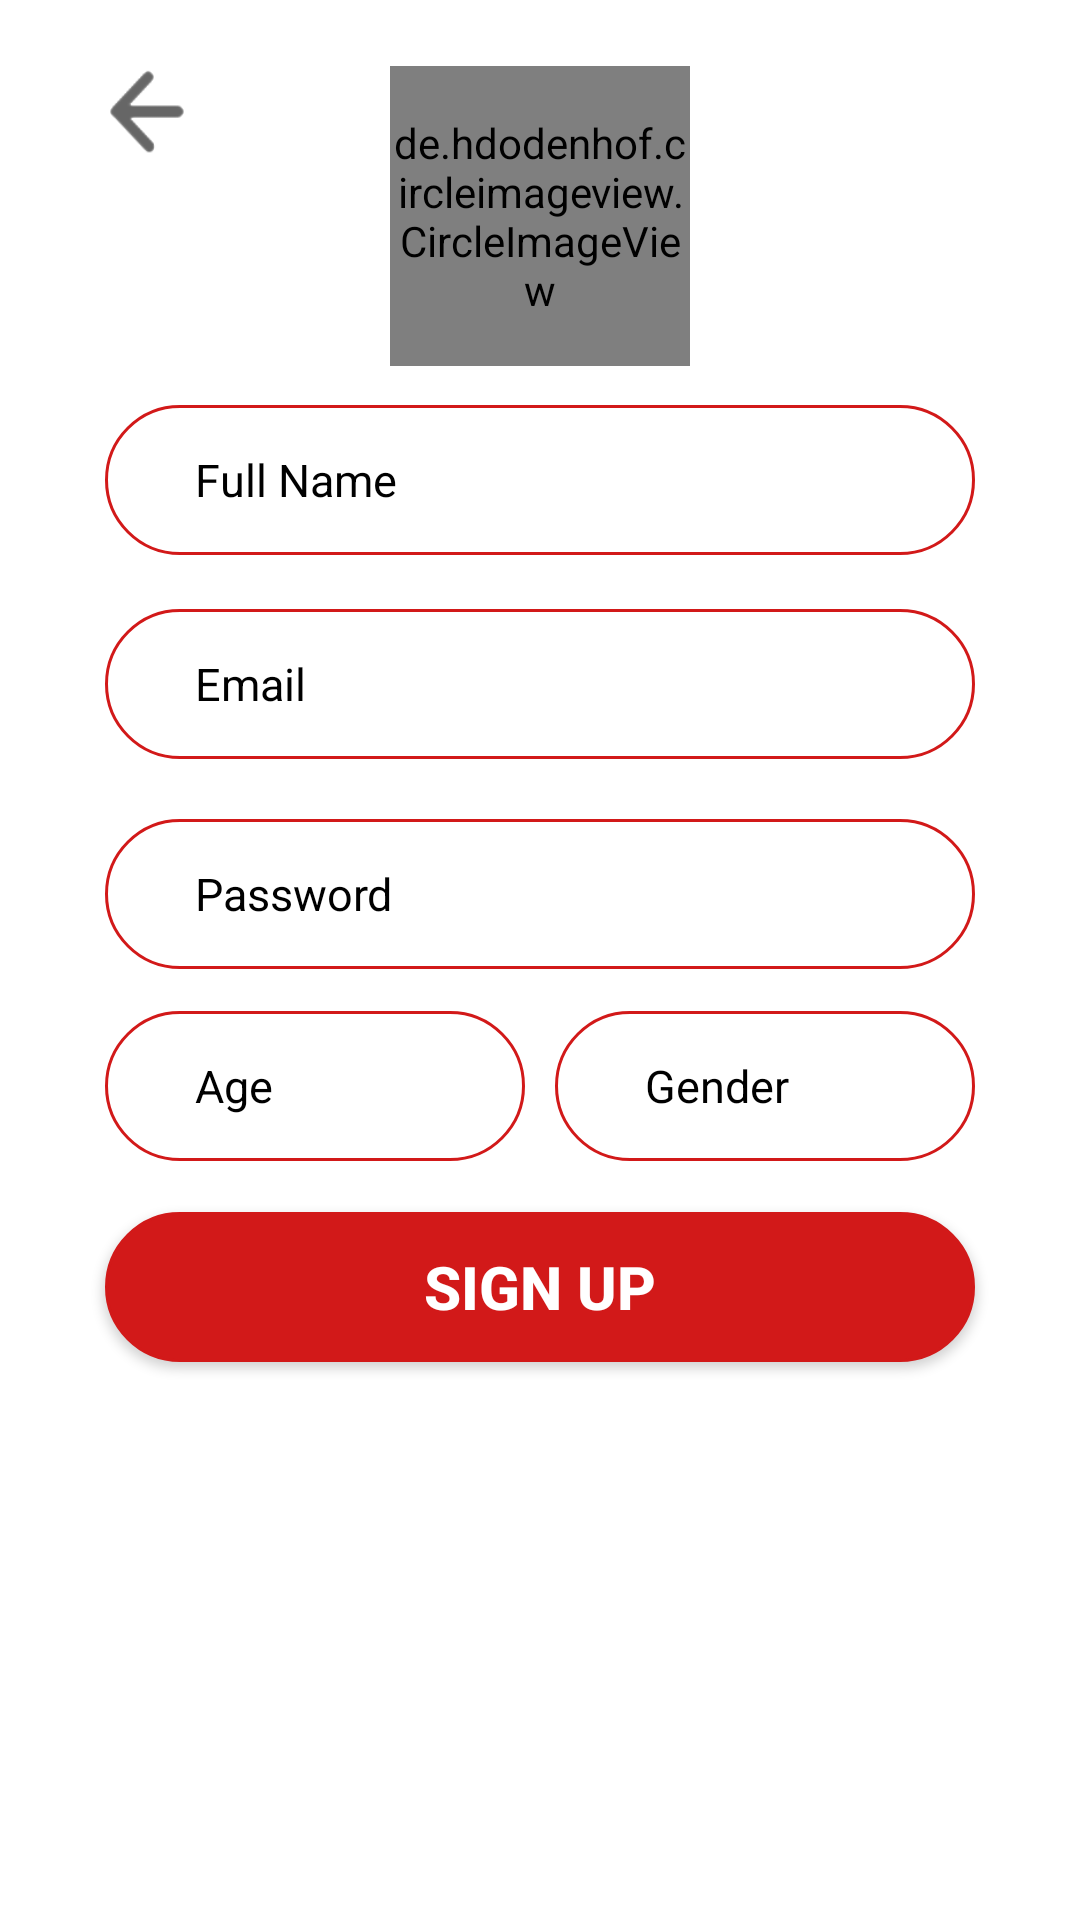

Named icons in this screenshot (1080 x 1920) and their centers, [x,y]:
back: [147,112]
